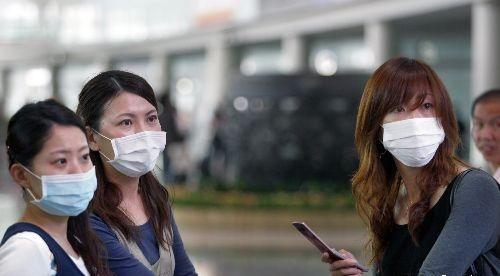NONE: (471, 114, 500, 163)
OK: (384, 93, 443, 162), (109, 103, 166, 174)
WRONG: (42, 140, 94, 215)
